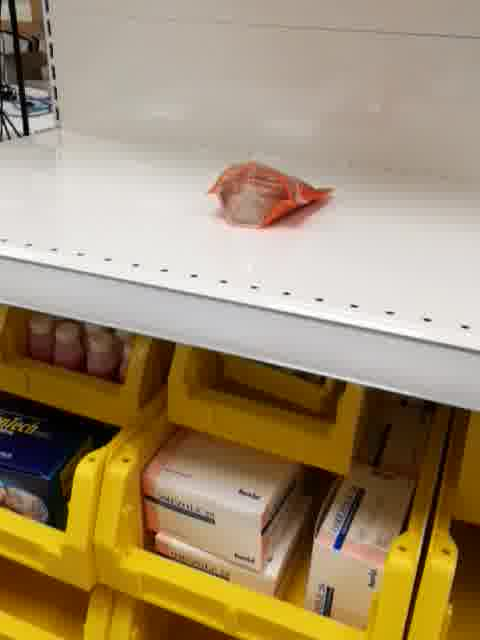whitechia: (201, 159, 334, 232)
